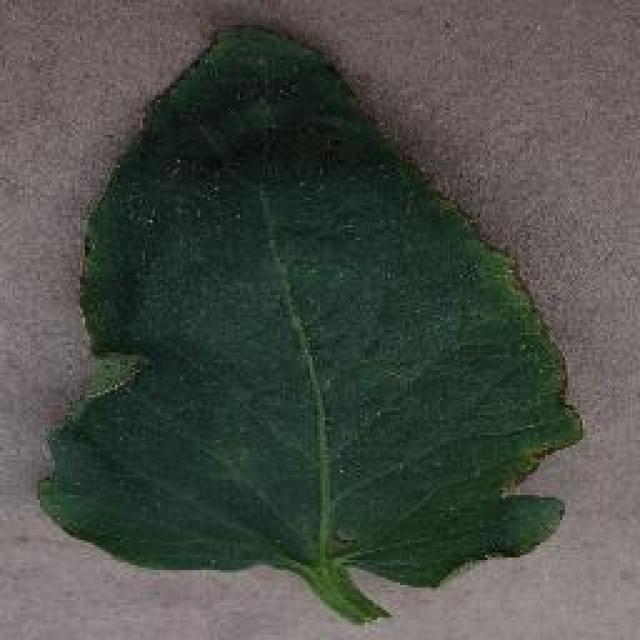Tomato bacterial spot leaf: (45, 28, 570, 610)
